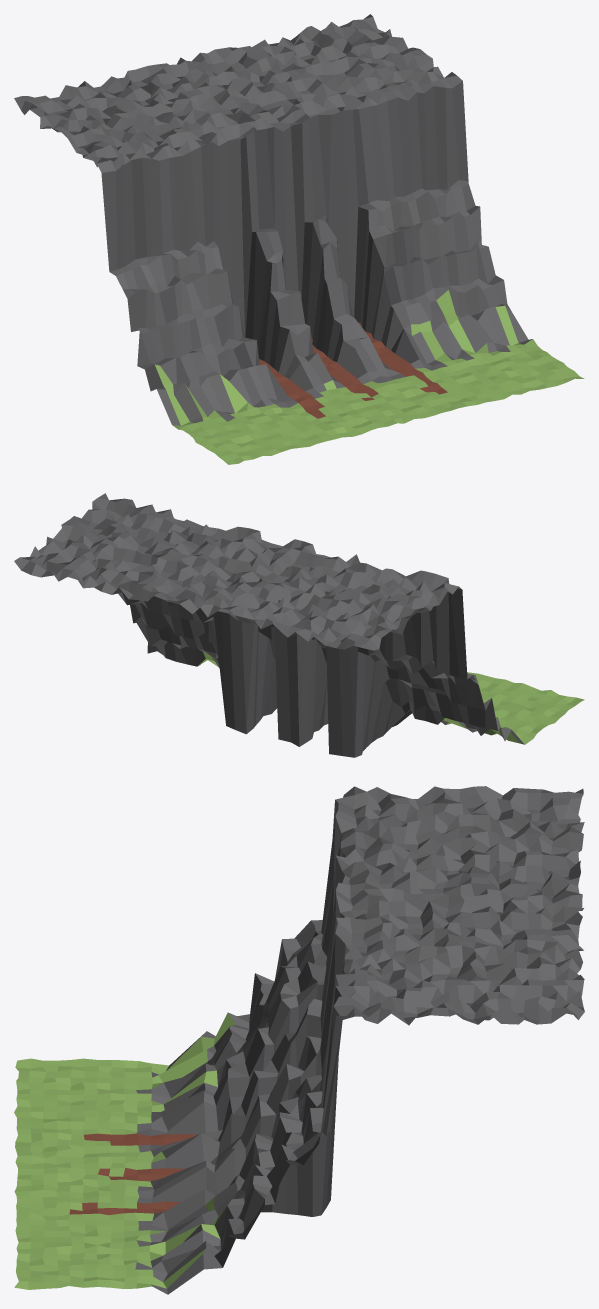
The model's file is 3m5jam11.glb.
The picture shows the model from 3 angles, top to bottom: view 1: azimuth 30°, elevation 25°; view 2: azimuth 150°, elevation 25°; view 3: azimuth 270°, elevation 25°; orthographic projection. The views are drawn at different scales.
Visible parts, largest first — view 1: Ground; view 2: Ground; view 3: Ground.
Part boxes in pixels (<box>): Ground: <box>14,14,584,464</box>; Ground: <box>14,493,584,757</box>; Ground: <box>14,786,584,1294</box>.
Bounding box in the file's own units: 40.63 × 22.97 × 42.49.
Materials: 1 (1 with a texture image).
